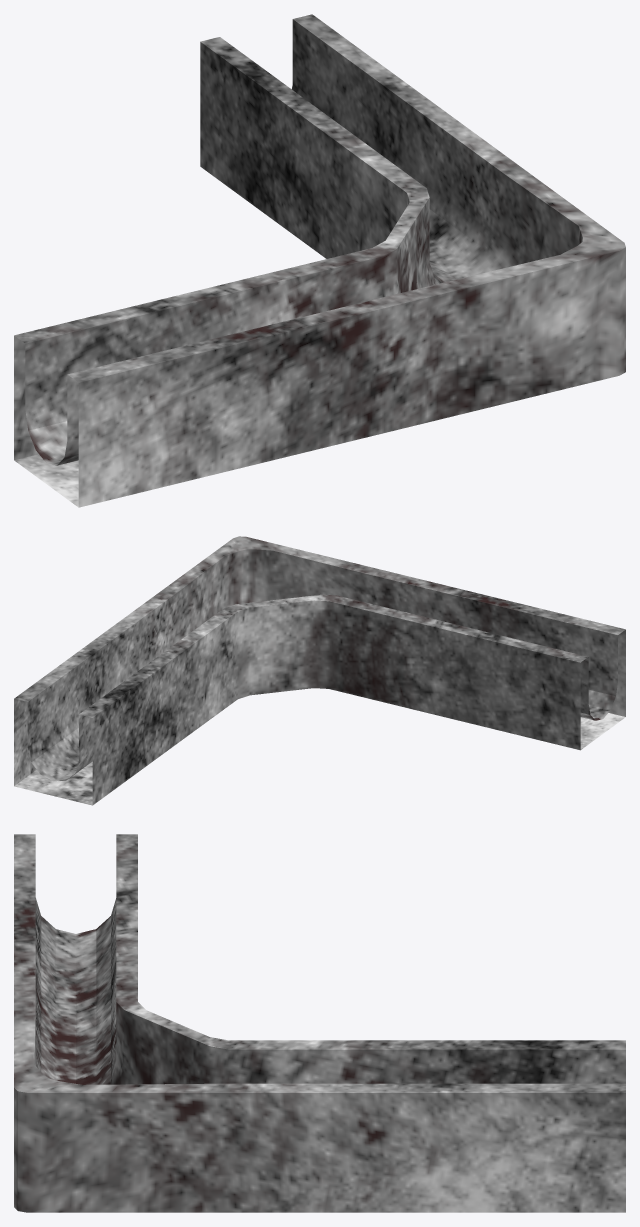
The model's file is Drain_shelterTurn.fbx.
3 renders of one model, top to bottom at view 1: azimuth 30°, elevation 25°; view 2: azimuth 150°, elevation 25°; view 3: azimuth 270°, elevation 25°, orthographic. The views are drawn at different scales.
Visible parts, largest first — view 1: drain_shelterturn_doneExport; view 2: drain_shelterturn_doneExport; view 3: drain_shelterturn_doneExport.
Boxes of the visible parts, <box> form: drain_shelterturn_doneExport: <box>14,14,625,507</box>; drain_shelterturn_doneExport: <box>14,536,625,805</box>; drain_shelterturn_doneExport: <box>14,834,625,1212</box>.
Bounding box in the file's own units: 237 × 51.19 × 237.
Materials: 1 (1 with a texture image).
